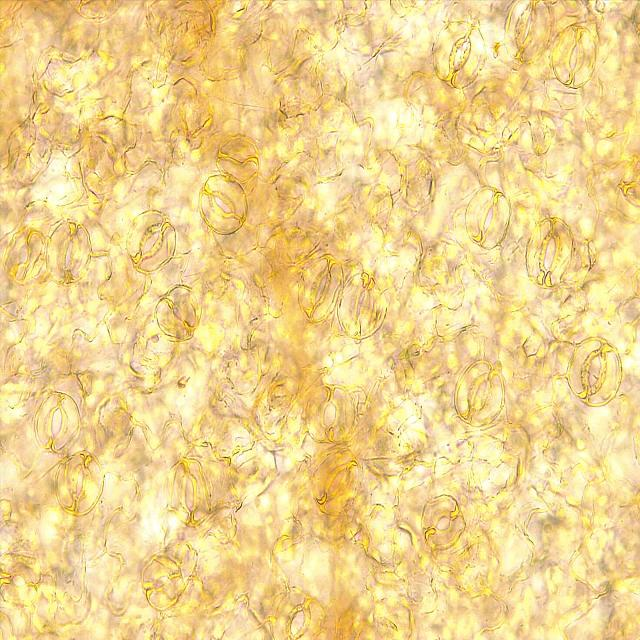Stomata: (564, 334, 624, 410), (430, 19, 489, 91), (523, 216, 577, 290), (335, 269, 389, 342), (310, 447, 364, 519), (163, 457, 216, 530), (51, 448, 106, 518), (296, 251, 346, 327), (124, 208, 178, 276), (452, 359, 505, 428), (198, 170, 250, 237), (304, 381, 358, 444), (548, 23, 598, 91), (31, 390, 83, 455), (502, 0, 553, 66), (268, 585, 328, 640), (46, 219, 94, 287), (464, 184, 512, 251), (153, 282, 201, 343), (3, 225, 48, 287), (140, 553, 187, 612), (420, 494, 467, 552), (0, 553, 42, 609)
